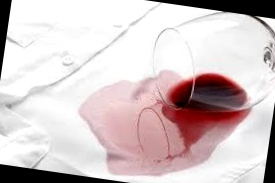wine: (80, 77, 221, 181), (139, 72, 249, 136), (106, 155, 161, 183)
